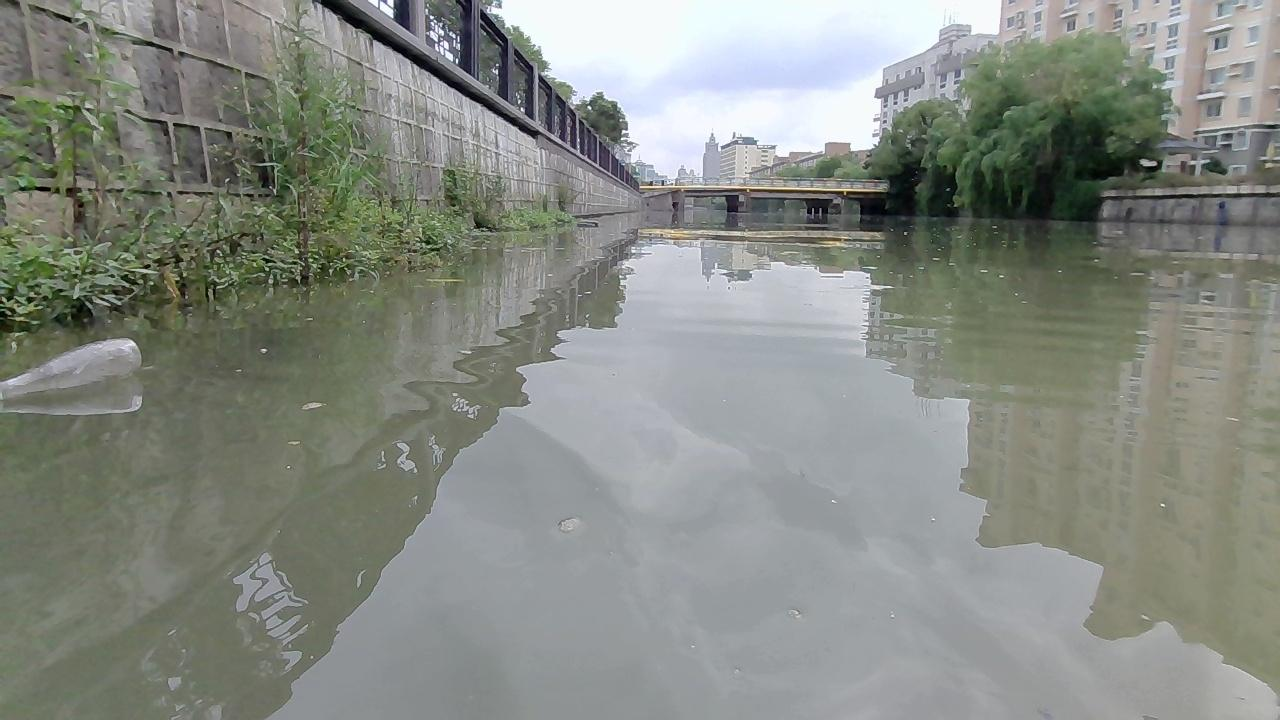bottle: (0, 334, 142, 400)
